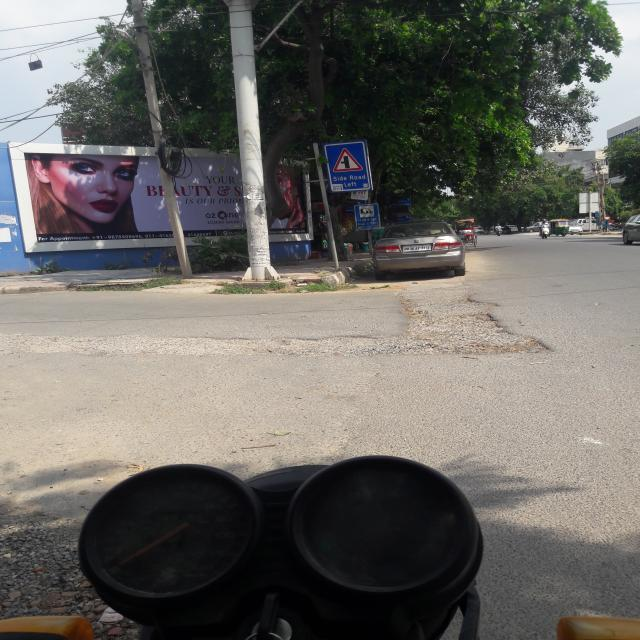side road left: (333, 148, 365, 175)
